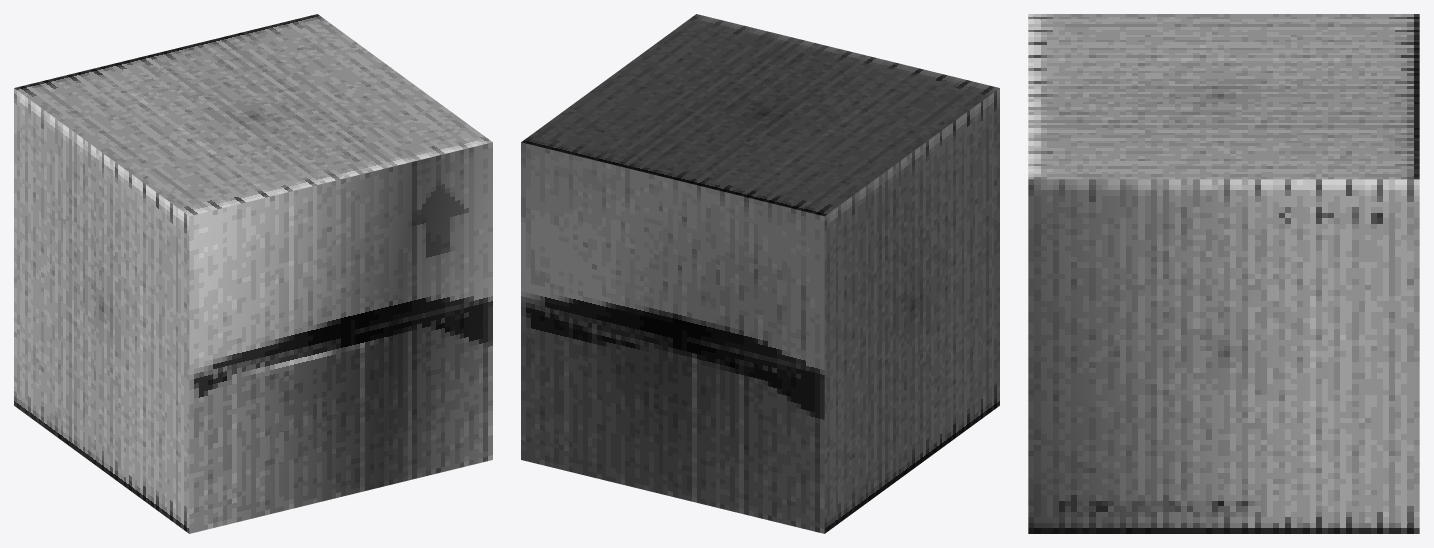
The model's file is Pcard_box1Z.obj.
3 renders of one model, left to right at view 1: azimuth 30°, elevation 25°; view 2: azimuth 150°, elevation 25°; view 3: azimuth 270°, elevation 25°, orthographic. The views are drawn at different scales.
Size of the model in its own units: 840 by 840 by 840.
5 materials, 5 textured.
